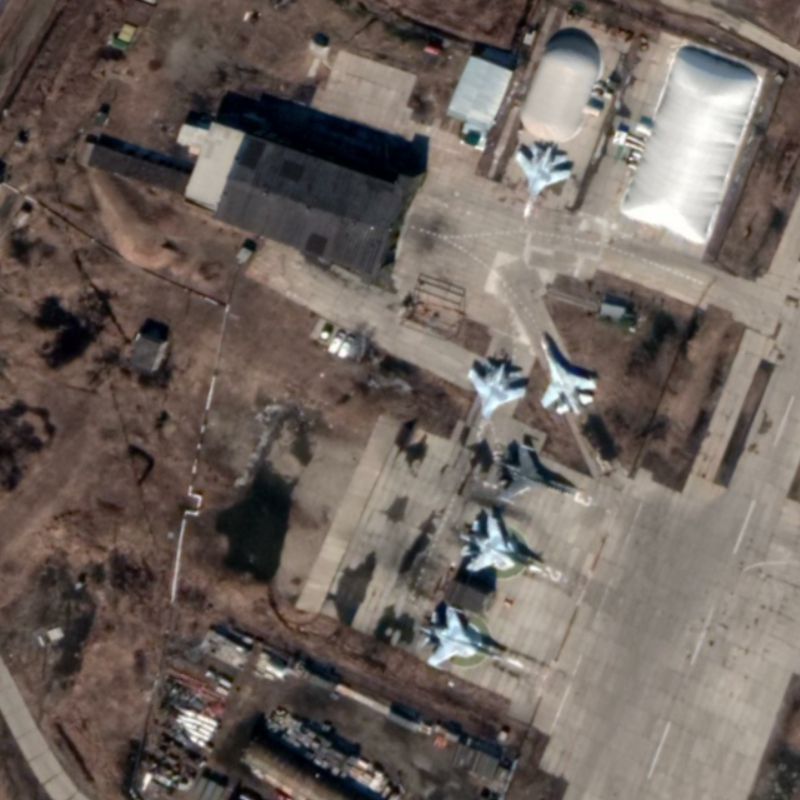A1: (418, 603, 507, 672), (536, 329, 599, 417), (493, 442, 576, 506), (465, 361, 528, 443), (514, 143, 573, 220)
A19: (457, 513, 548, 575)
